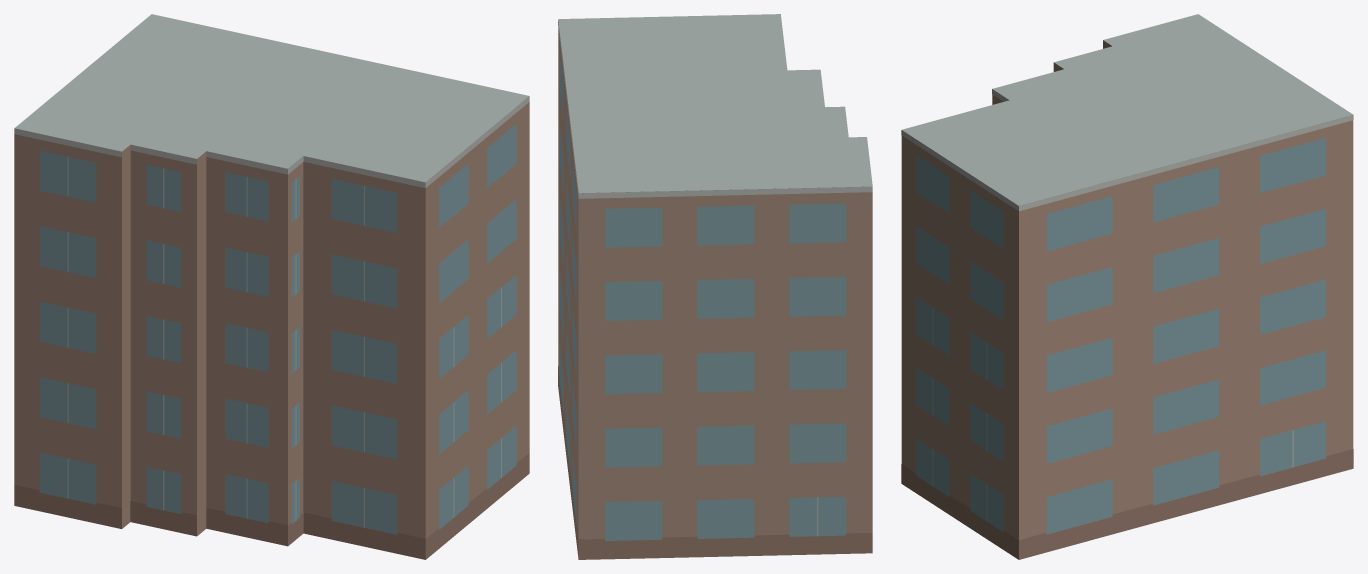
Rendered from survey-upis-32856688.glb.
The picture shows the model from 3 angles, left to right: view 1: azimuth 30°, elevation 25°; view 2: azimuth 150°, elevation 25°; view 3: azimuth 270°, elevation 25°; orthographic projection. The views are drawn at different scales.
Parts seen in each view (by area): view 1: survey-upis-32856688.tmp; view 2: survey-upis-32856688.tmp; view 3: survey-upis-32856688.tmp.
Boxes of the visible parts, <box> form: survey-upis-32856688.tmp: <box>14,14,529,559</box>; survey-upis-32856688.tmp: <box>558,14,872,559</box>; survey-upis-32856688.tmp: <box>901,14,1353,559</box>.
Size of the model in its own units: 18.45 by 15.85 by 18.35.
